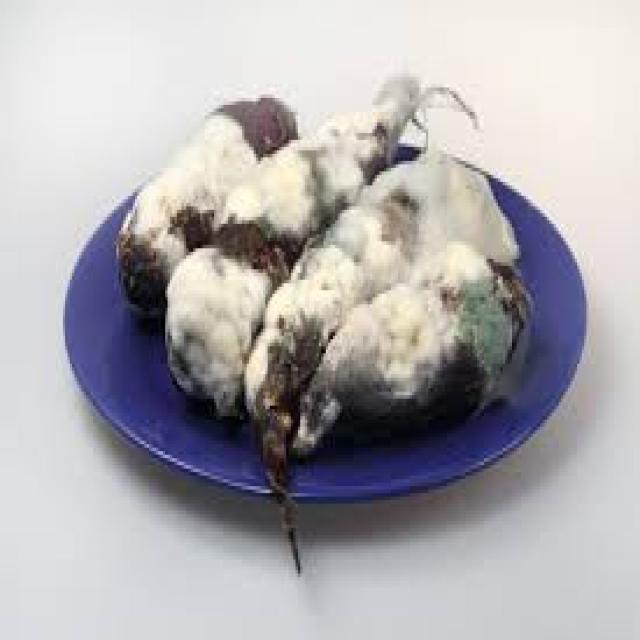organic waste: (240, 147, 514, 573), (158, 63, 475, 416), (284, 238, 535, 462), (110, 91, 294, 311)
